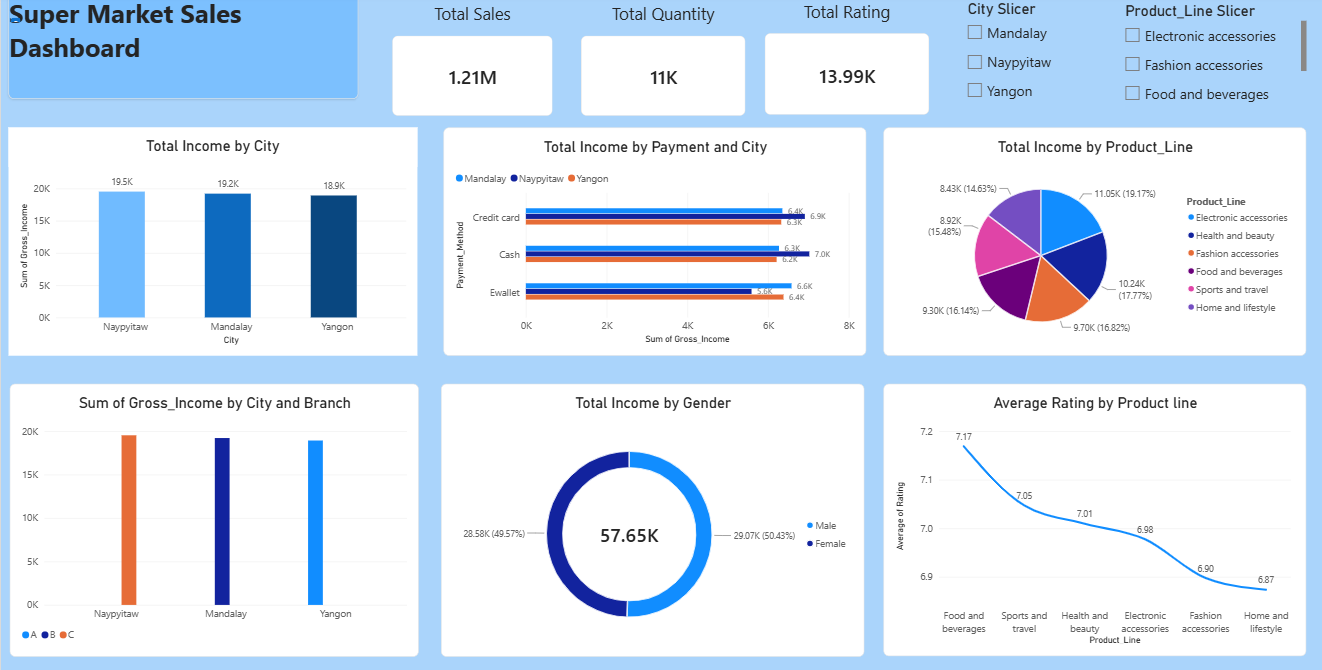

Layout of this report page (visuals, bound fields, positions):
{"tool":"powerbi","page":{"name":"Page 1","canvas":[1920,1080],"ordinal":0},"visuals":[{"type":"textbox","box":[10,0,506,150],"z":0},{"type":"cardVisual","title":"Total Sales","fields":{"Data":["Sum(supermarket_sales_dataset (1).Total_Sales)"]},"box":[566,10,232,164],"z":1000},{"type":"cardVisual","title":"Total Quantity","fields":{"Data":["Sum(supermarket_sales_dataset (1).Quantity)"]},"box":[840,10,238,164],"z":2000},{"type":"cardVisual","title":"Total Rating","fields":{"Data":["Sum(supermarket_sales_dataset (1).Rating)"]},"box":[1106,8,238,166],"z":3000},{"type":"columnChart","title":"Total Income by City","fields":{"Category":["supermarket_sales_dataset (1).City"],"Y":["Sum(supermarket_sales_dataset (1).Gross_Income)"]},"box":[11.7,191.7,591.7,330],"z":4000},{"type":"clusteredBarChart","title":"Total Income by Payment and City","fields":{"Category":["supermarket_sales_dataset (1).Payment_Method"],"Series":["supermarket_sales_dataset (1).City"],"Y":["Sum(supermarket_sales_dataset (1).Gross_Income)"]},"box":[640,192,612,330],"z":5000},{"type":"lineChart","title":"Average Rating by Product line","fields":{"Category":["supermarket_sales_dataset (1).Product_Line"],"Y":["Avg(supermarket_sales_dataset (1).Rating)"]},"box":[1278,562,612,394],"z":6000},{"type":"pieChart","title":"Total Income by Product_Line","fields":{"Category":["supermarket_sales_dataset (1).Product_Line"],"Y":["Sum(supermarket_sales_dataset (1).Gross_Income)"]},"box":[1278,192,612,330],"z":7000},{"type":"donutChart","title":"Total Income by Gender","fields":{"Category":["supermarket_sales_dataset (1).Gender"],"Y":["Sum(supermarket_sales_dataset (1).Gross_Income)"]},"box":[637.5,562.5,612.5,395],"z":8000},{"type":"actionButton","box":[14,28,14,12],"z":9000},{"type":"clusteredColumnChart","fields":{"Category":["supermarket_sales_dataset (1).City"],"Series":["supermarket_sales_dataset (1).Branch"],"Y":["Sum(supermarket_sales_dataset (1).Gross_Income)"]},"box":[12,563,592,395],"z":10000},{"type":"slicer","fields":{"Values":["supermarket_sales_dataset (1).City"]},"box":[1392,8,228,162],"z":10001},{"type":"slicer","fields":{"Values":["supermarket_sales_dataset (1).Product_Line"]},"box":[1620,10,270,162],"z":10002}]}

Visuals, with their boxes on the page's 1920x1080 design canvas (x1, y1, x2, y2). These are canvas units, not pixel positions in the 1322x670 screenshot, which may show the page scaled, cropped or inside an application window:
textbox: box=[10, 0, 516, 150]
"Total Sales" cardVisual: box=[566, 10, 798, 174]
"Total Quantity" cardVisual: box=[840, 10, 1078, 174]
"Total Rating" cardVisual: box=[1106, 8, 1344, 174]
"Total Income by City" columnChart: box=[12, 192, 603, 522]
"Total Income by Payment and City" clusteredBarChart: box=[640, 192, 1252, 522]
"Average Rating by Product line" lineChart: box=[1278, 562, 1890, 956]
"Total Income by Product_Line" pieChart: box=[1278, 192, 1890, 522]
"Total Income by Gender" donutChart: box=[638, 562, 1250, 958]
actionButton: box=[14, 28, 28, 40]
clusteredColumnChart - supermarket_sales_dataset (1).City x supermarket_sales_dataset (1).Branch: box=[12, 563, 604, 958]
slicer - supermarket_sales_dataset (1).City: box=[1392, 8, 1620, 170]
slicer - supermarket_sales_dataset (1).Product_Line: box=[1620, 10, 1890, 172]
